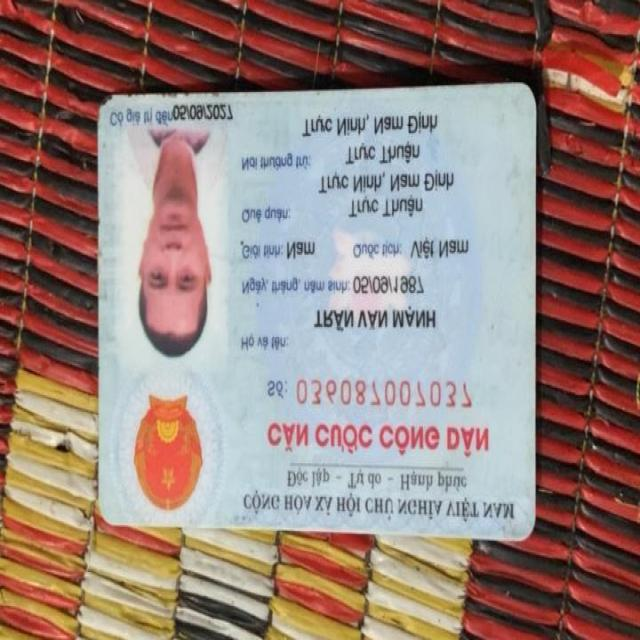bottom_left: (90, 86, 128, 112)
bottom_right: (93, 494, 128, 535)
image_person: (112, 126, 232, 368)
top_left: (508, 71, 549, 115)
top_right: (510, 73, 548, 114)
